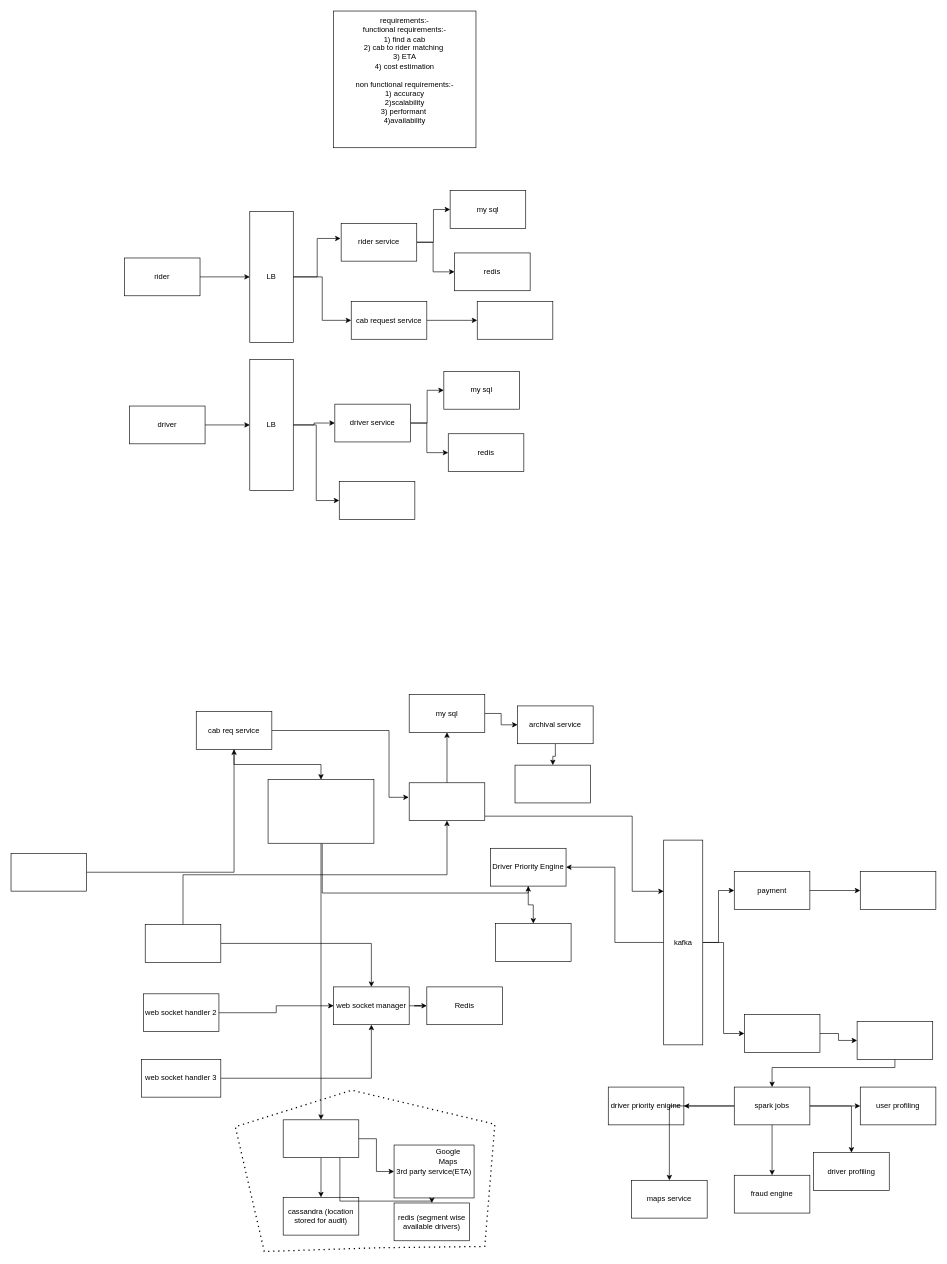
This 947x1264 diagram has some shape labels left out. The shapes that lost their labels are listed below. From the top down, each one's centre as x and y in pixels, then its label:
At [515,320]: "cab finder".
At [377,500]: "rider pairing service".
At [447,801]: "trip service".
At [552,784]: "casssandra".
At [320,811]: "cab finding service".
At [48,872]: "user".
At [898,890]: "sql".
At [183,943]: "web socket handler 1".
At [533,942]: "cache".
At [782,1033]: "spark streaming".
At [894,1040]: "hadoop cluster".
At [321,1138]: "location service(ETA, segment details)".
